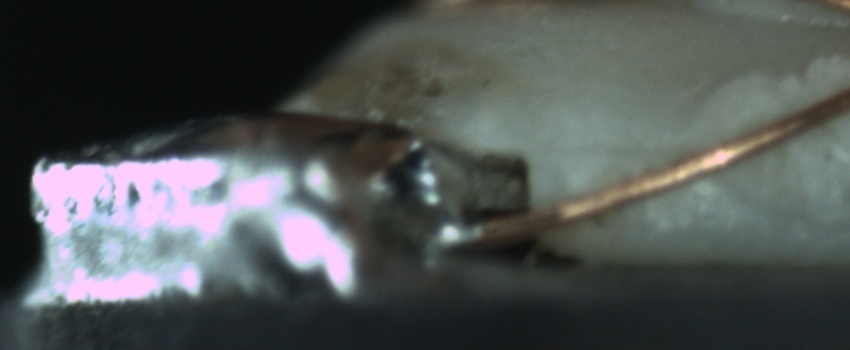DL: (555, 114, 697, 178)
